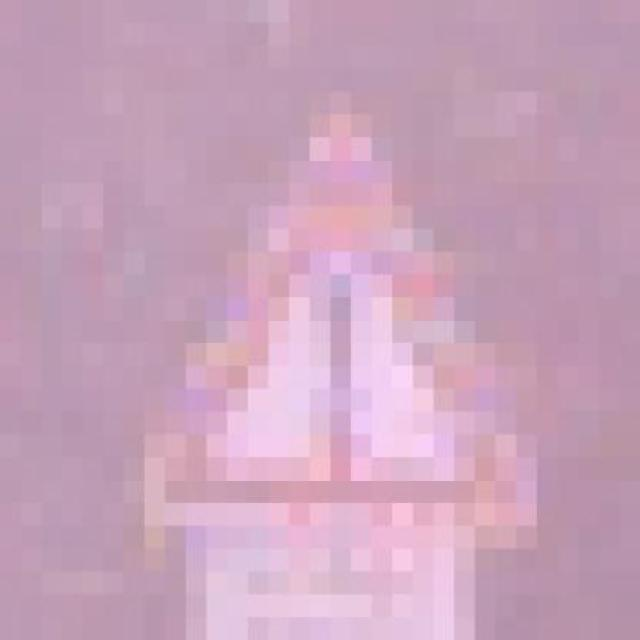Attention Please-: (82, 69, 516, 548)
